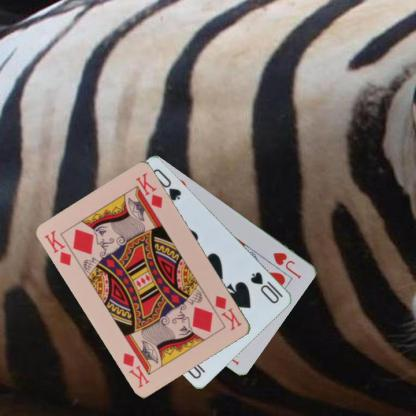10s: (248, 269, 285, 305)
Jh: (271, 250, 303, 280)
Kd: (42, 228, 73, 267), (213, 293, 243, 332)
